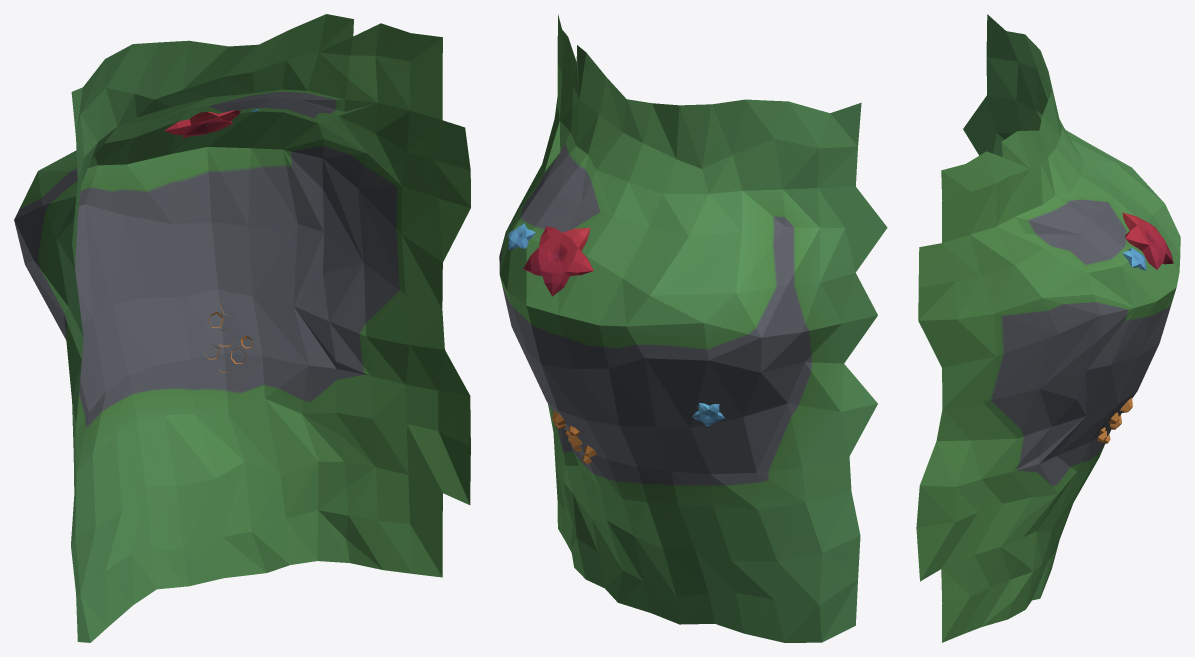
The model's file is Ground_01.FBX.
3 views of the same model, side by side, from view 1: azimuth 30°, elevation 25°; view 2: azimuth 150°, elevation 25°; view 3: azimuth 270°, elevation 25° (orthographic). The views are drawn at different scales.
Visible parts, largest first — view 1: Ground_01; view 2: Ground_01; view 3: Ground_01.
Boxes of the visible parts, <box> form: Ground_01: <box>14,14,470,642</box>; Ground_01: <box>499,14,887,642</box>; Ground_01: <box>916,14,1180,642</box>.
Size of the model in its own units: 10.37 by 15.12 by 7.26.
